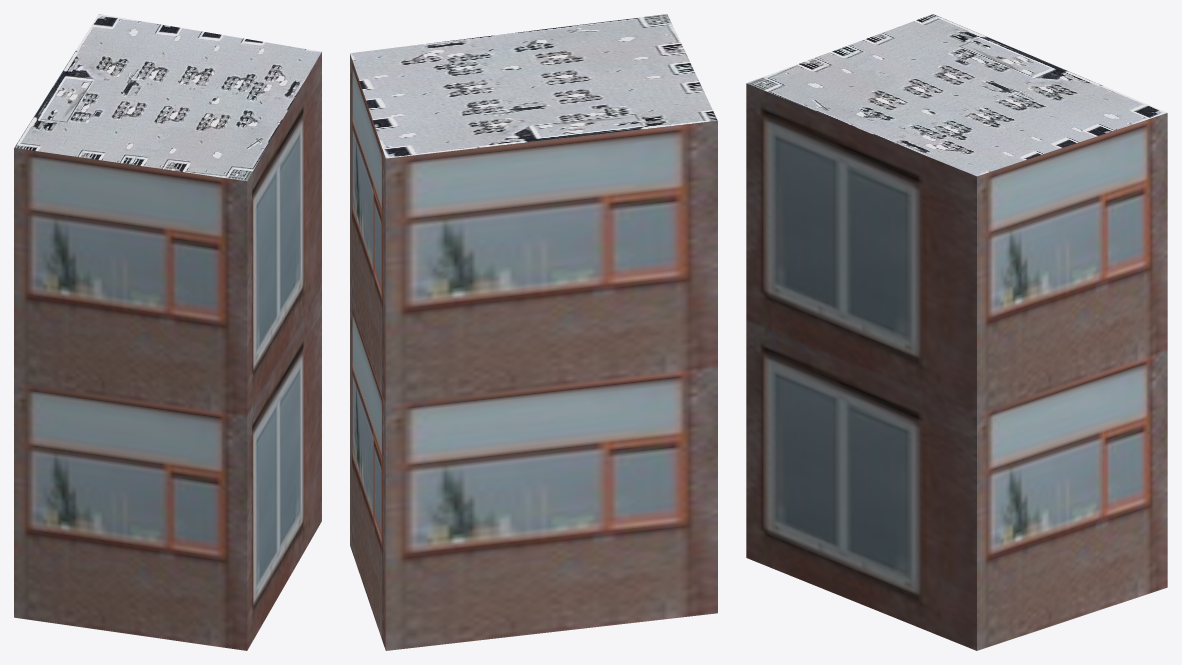
File: ResTex__1801.fbx
The picture shows the model from 3 angles, left to right: view 1: azimuth 30°, elevation 25°; view 2: azimuth 150°, elevation 25°; view 3: azimuth 270°, elevation 25°; orthographic projection. The views are drawn at different scales.
Visible parts, largest first — view 1: CityEngineMaterial_19_m, CityEngineMaterial_15_m; view 2: CityEngineMaterial_19_m, CityEngineMaterial_15_m; view 3: CityEngineMaterial_19_m, CityEngineMaterial_15_m.
Boxes of the visible parts, x1,y1,x2,y2 form: CityEngineMaterial_19_m: (14,52,321,650); CityEngineMaterial_15_m: (14,14,321,181); CityEngineMaterial_19_m: (350,54,717,650); CityEngineMaterial_15_m: (350,14,717,158); CityEngineMaterial_19_m: (746,83,1167,650); CityEngineMaterial_15_m: (747,14,1166,176).
Size of the model in its own units: 4.4 by 6 by 4.83.
2 materials, 2 textured.
